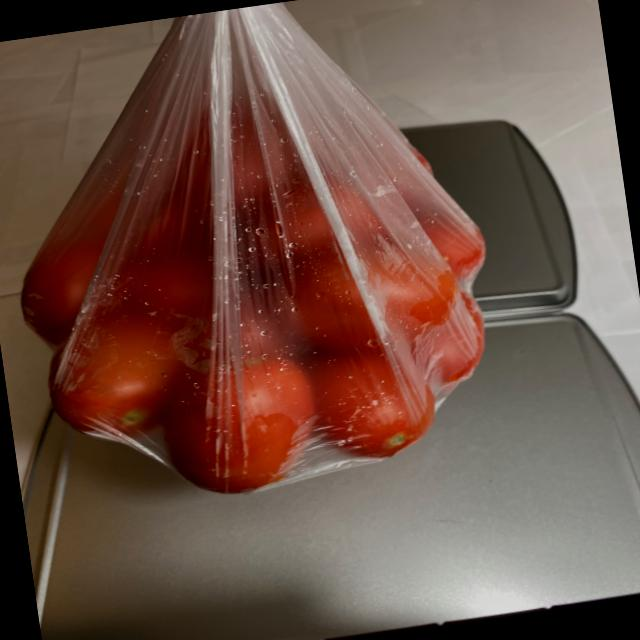tomato: (8, 96, 512, 526)
